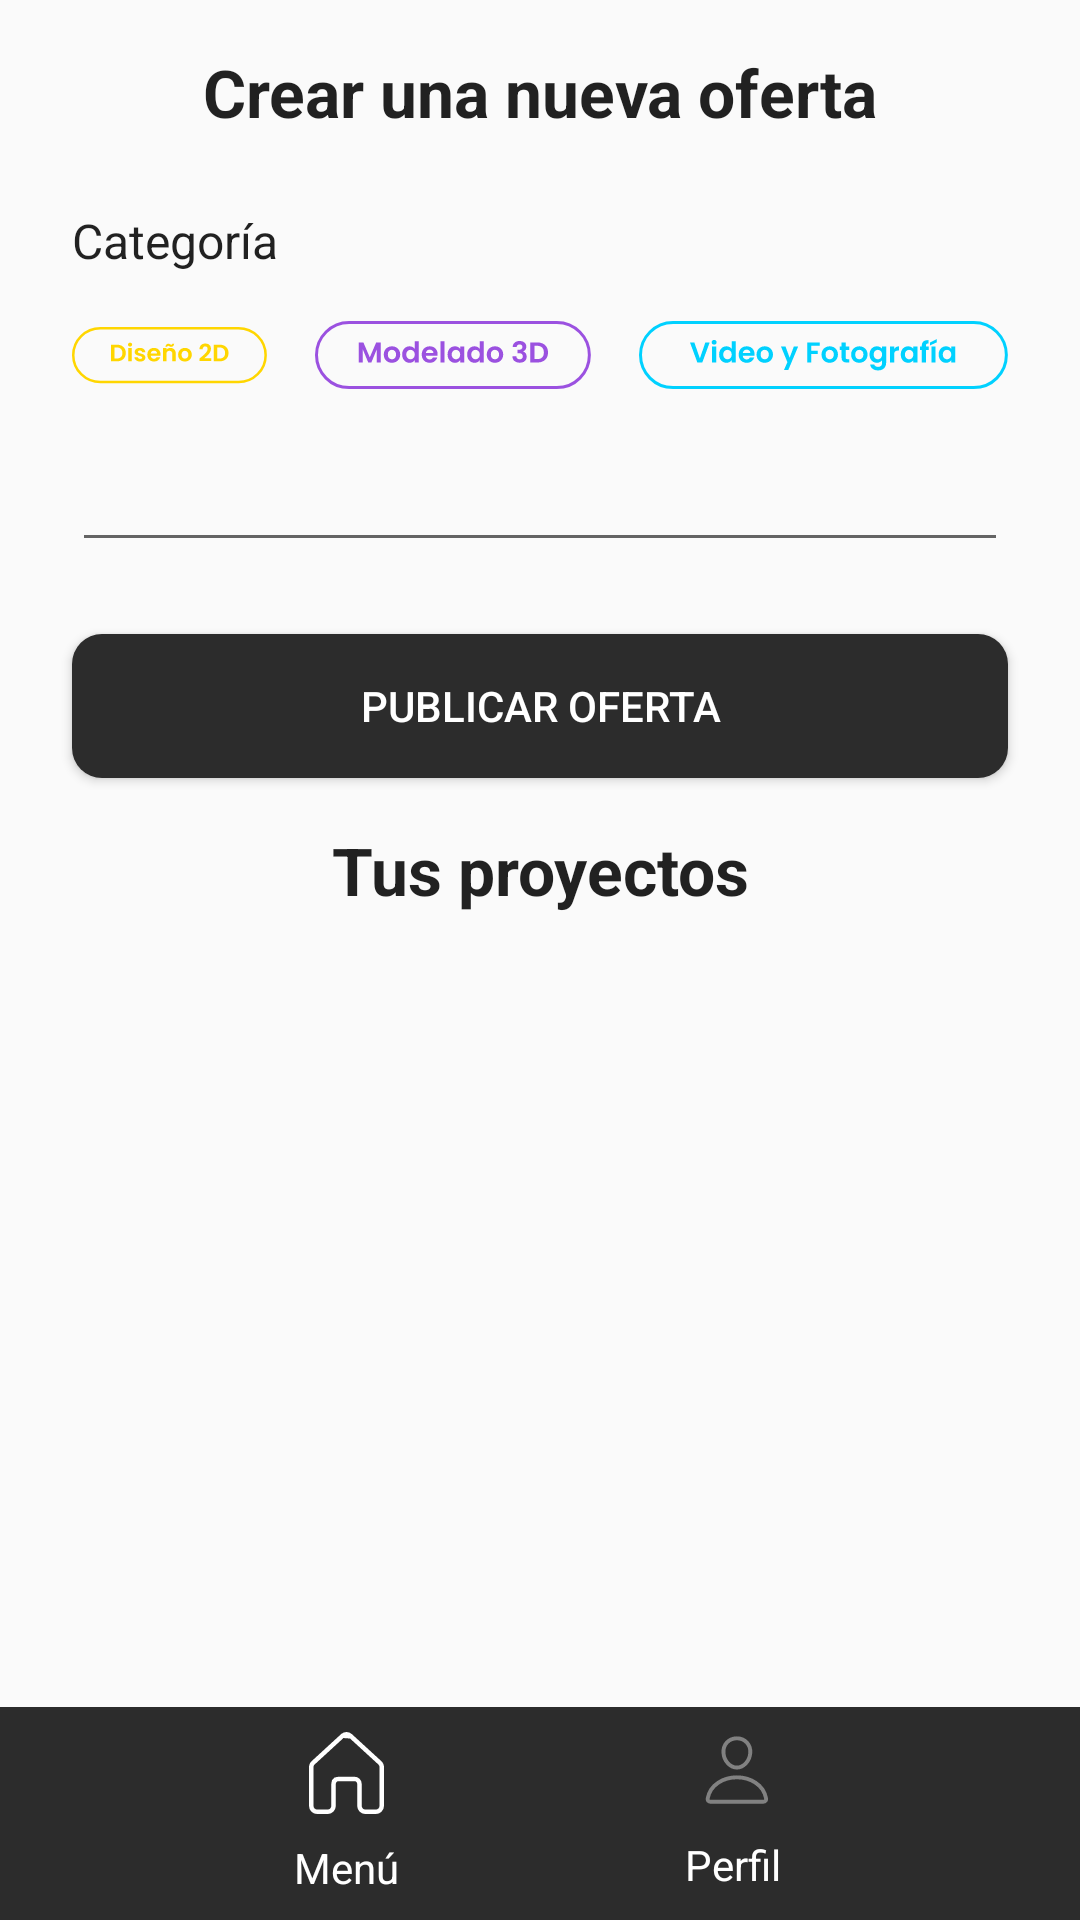

Icon click points for this 1080 x 1920 phone screenshot, format (x=x, y=y):
home: (x=346, y=1773)
person: (x=737, y=1770)
